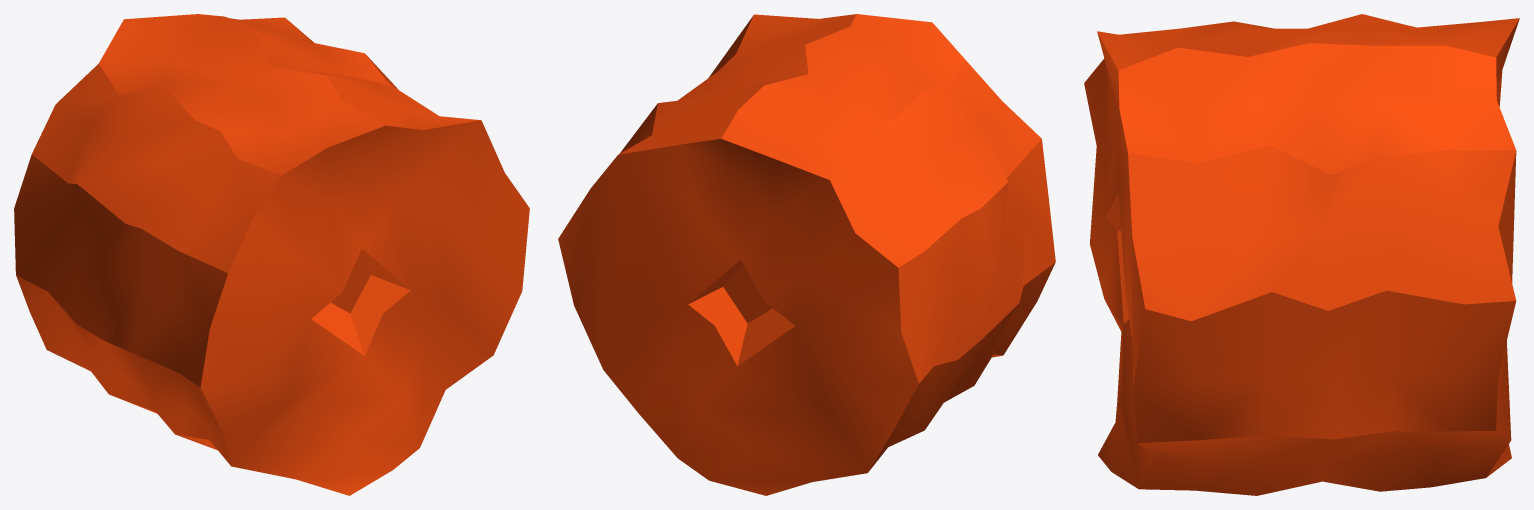
The model's file is Hay_1.fbx.
3 views of the same model, side by side, from view 1: azimuth 30°, elevation 25°; view 2: azimuth 150°, elevation 25°; view 3: azimuth 270°, elevation 25° (orthographic). The views are drawn at different scales.
Visible parts, largest first — view 1: Hay_1; view 2: Hay_1; view 3: Hay_1.
Boxes of the visible parts, box(x1,y1,x2,y2) form: Hay_1: box(14, 14, 529, 495); Hay_1: box(558, 14, 1055, 495); Hay_1: box(1084, 14, 1519, 495).
Bounding box in the file's own units: 39.66 × 38.17 × 34.62.
